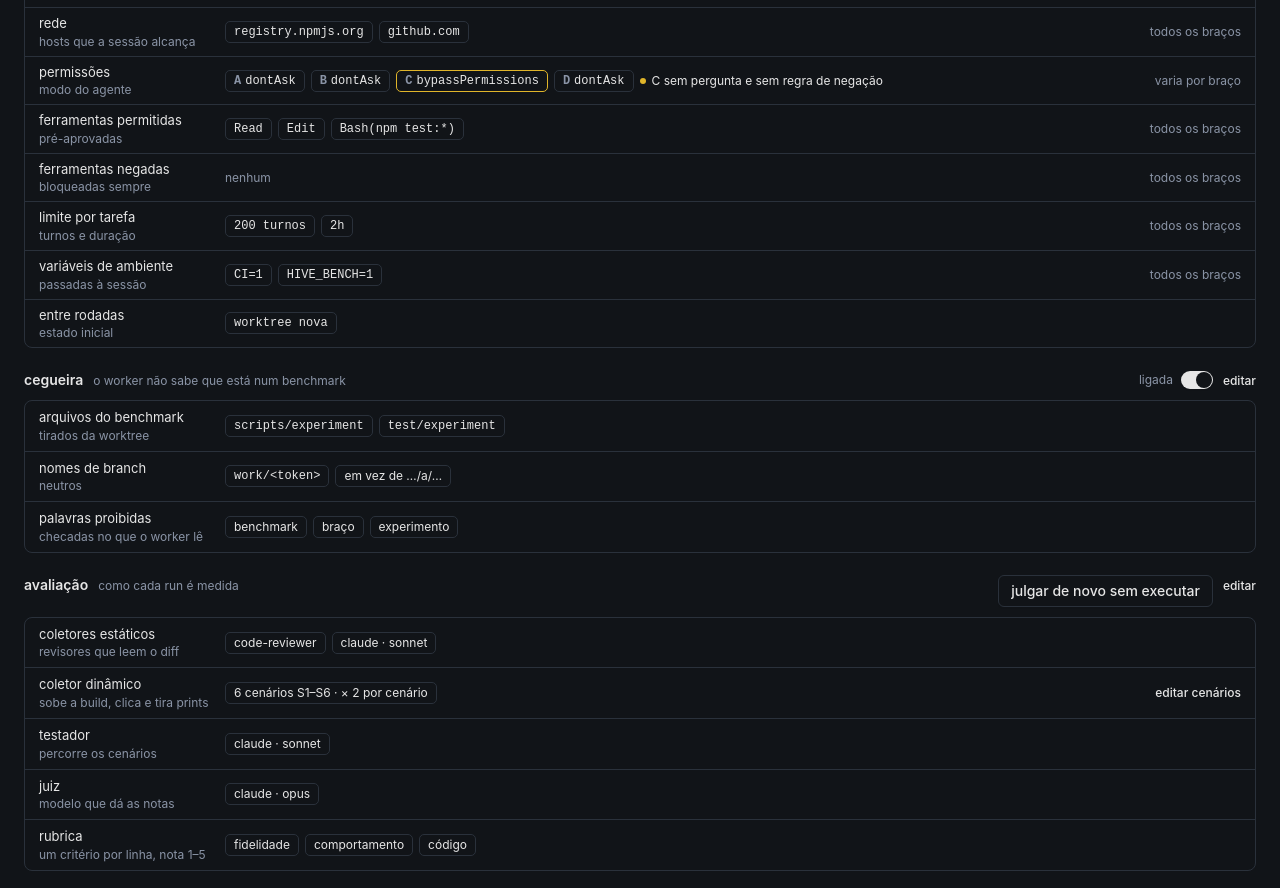
editar cenários opens the seed's form and scrolls to the seed section (#463, #537)
(page scrolled)
Click the button "editar cenários" at (1198, 693), box [1155,685,1241,701]
(page scrolled)
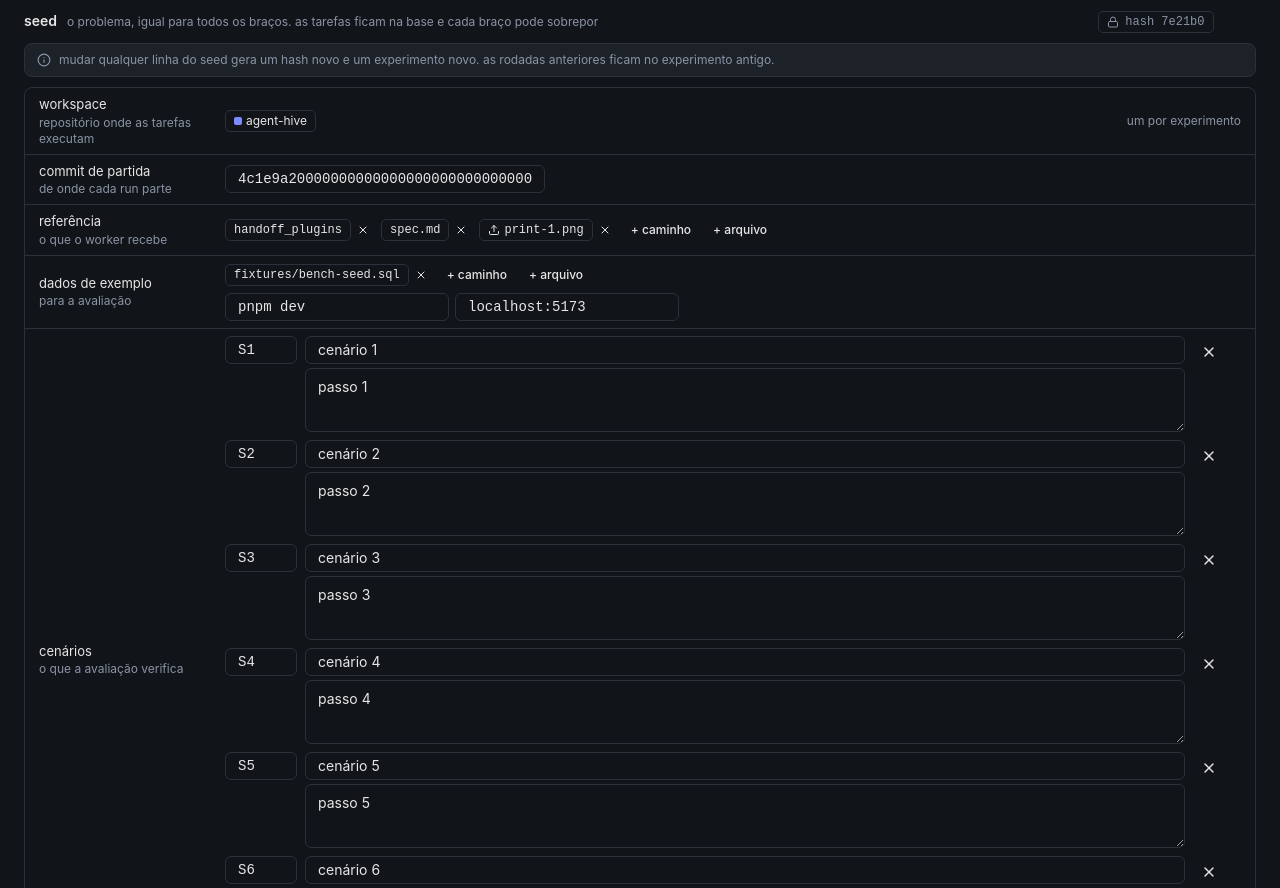
Check: the field named "commit de partida" is shown, box [225,165,545,193]
